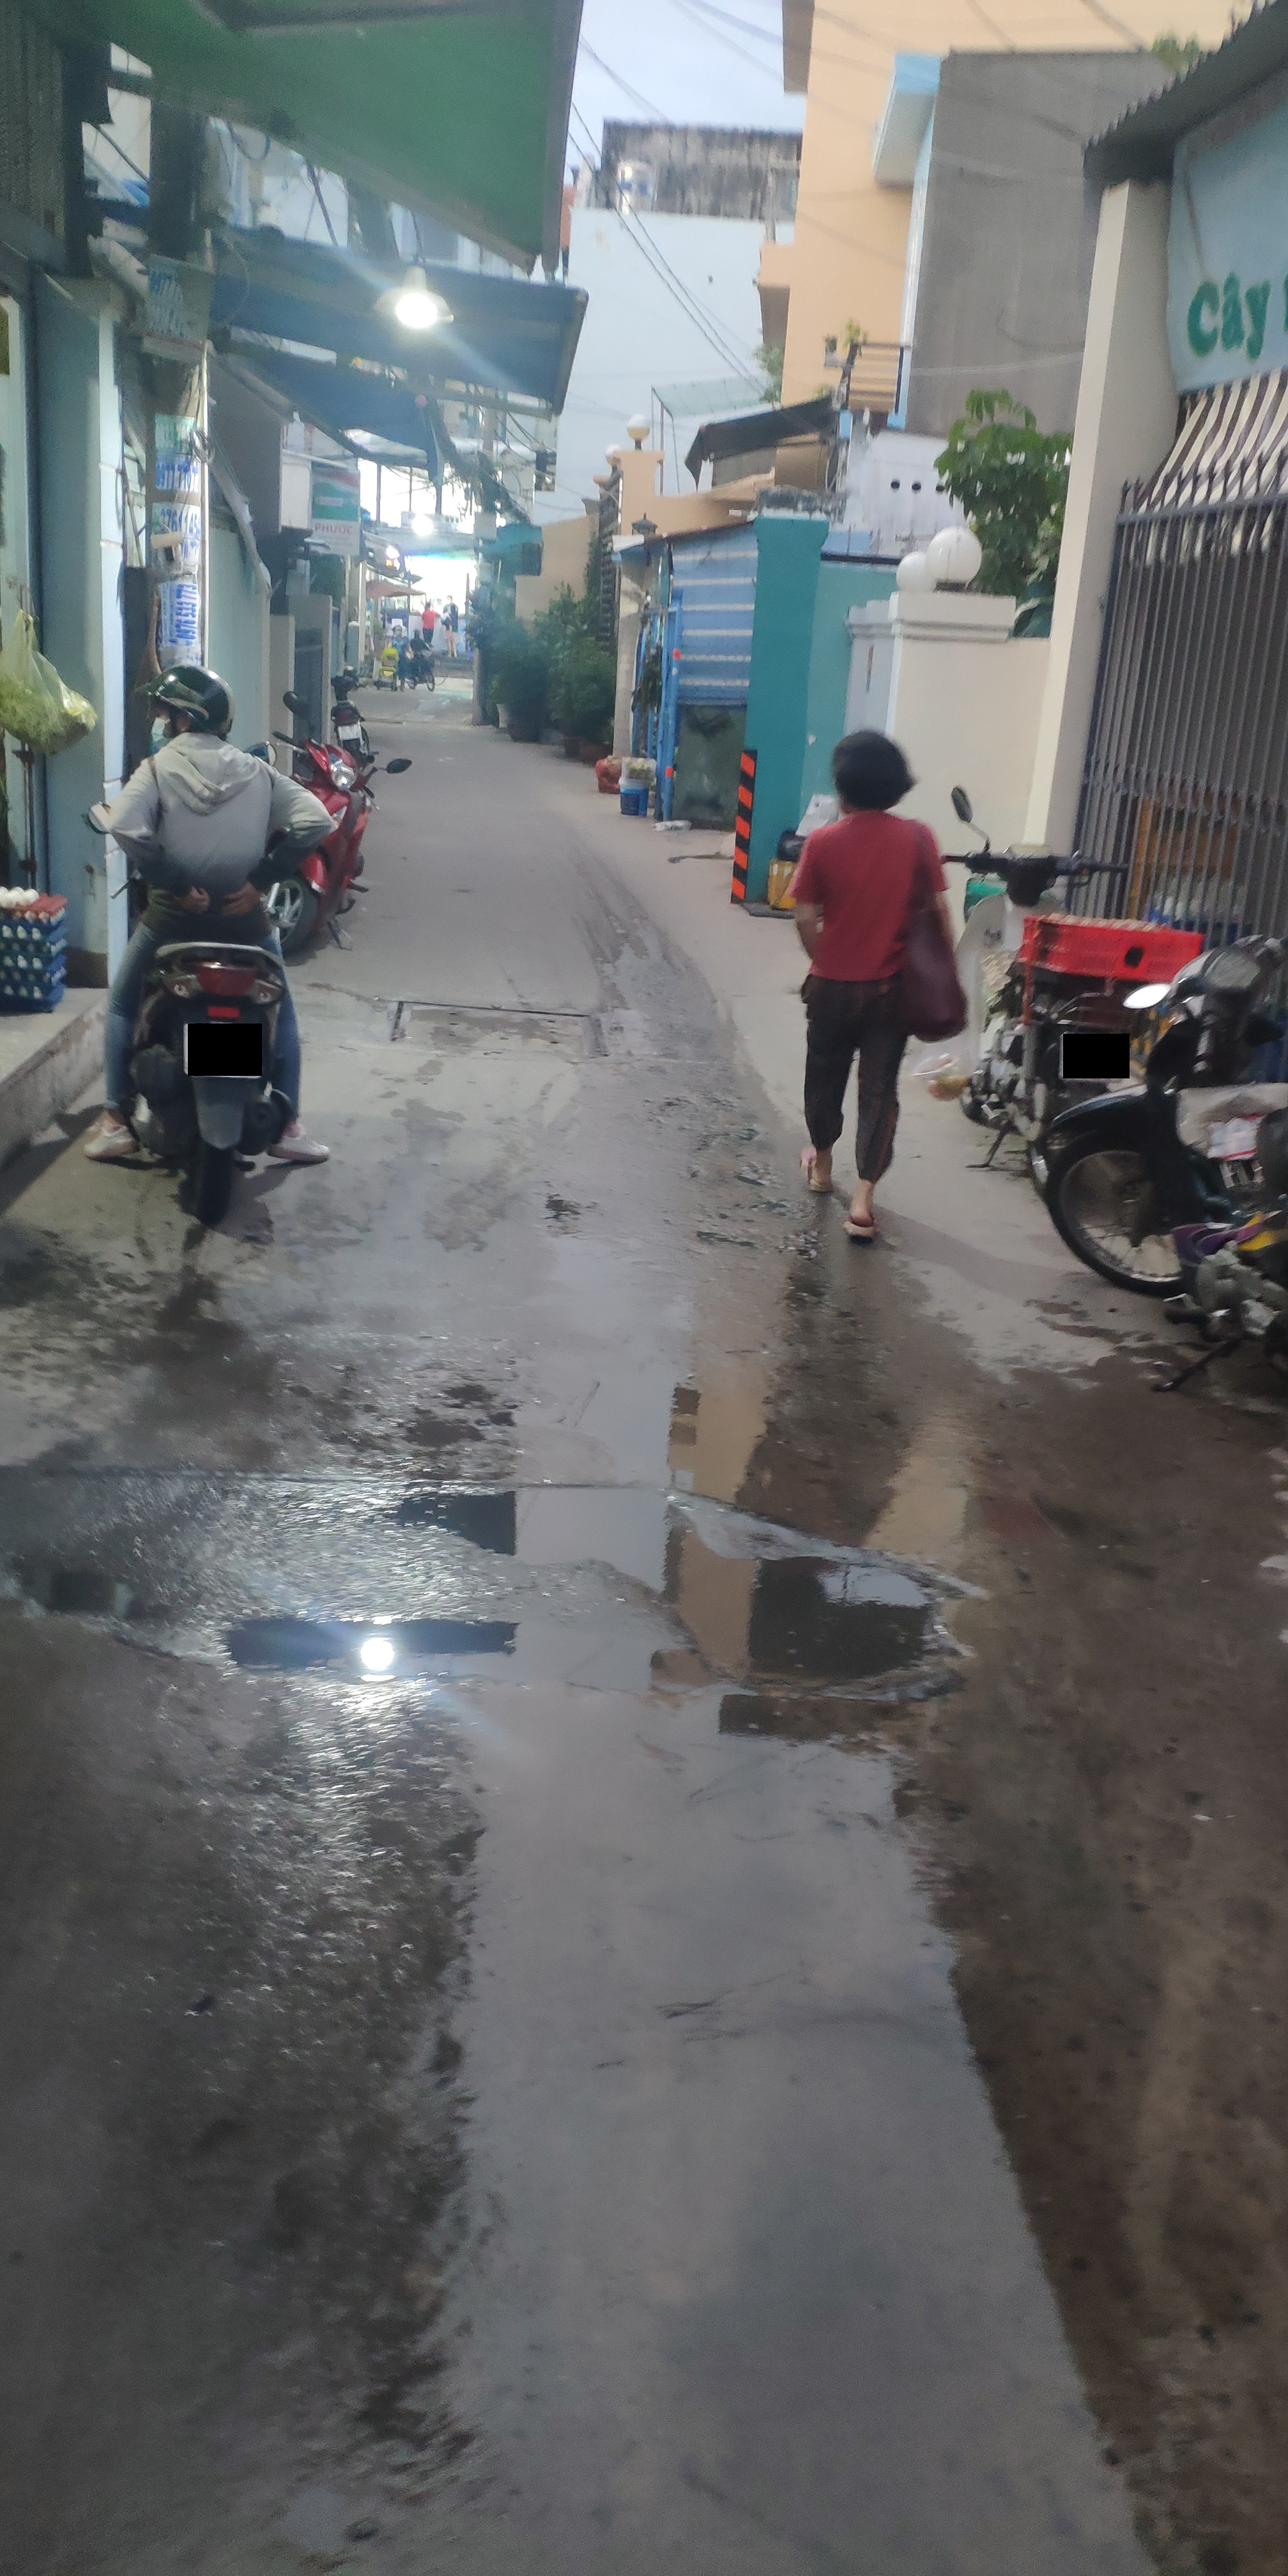hole: (205, 1482, 1010, 1687), (3, 1551, 171, 1646)
